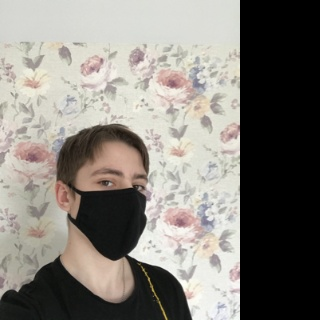with_mask: (75, 158, 151, 261)
